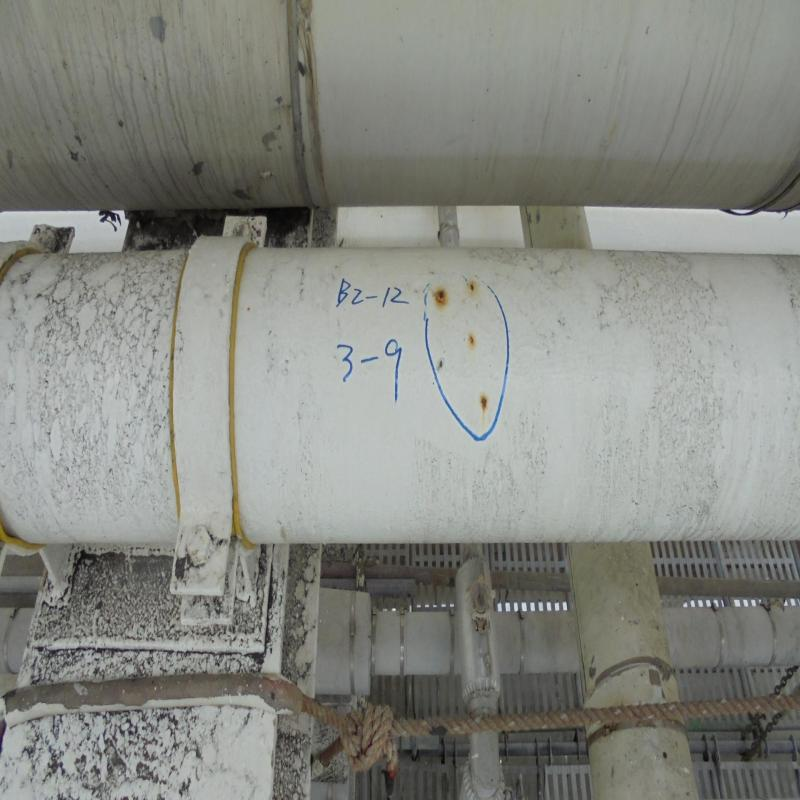corrosion: (466, 328, 477, 352), (436, 286, 448, 308), (481, 385, 490, 414), (468, 276, 478, 293)
